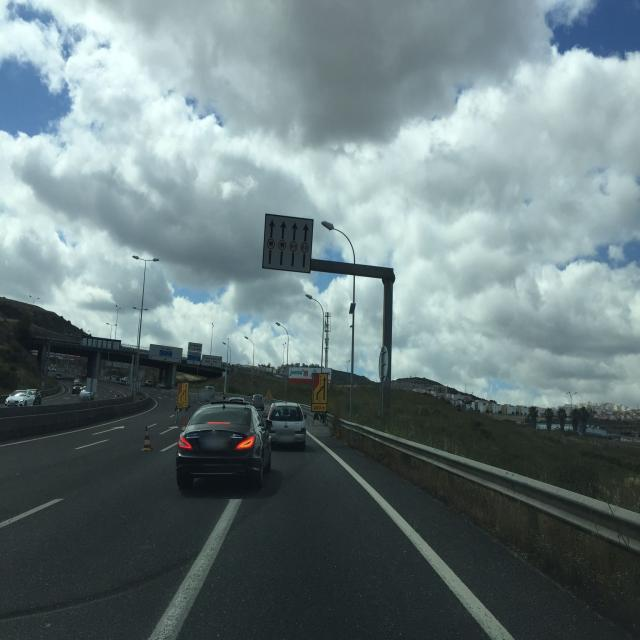car: (175, 402, 272, 491), (266, 402, 307, 451), (5, 388, 41, 408), (251, 394, 265, 411), (79, 389, 94, 400), (72, 383, 82, 395)
